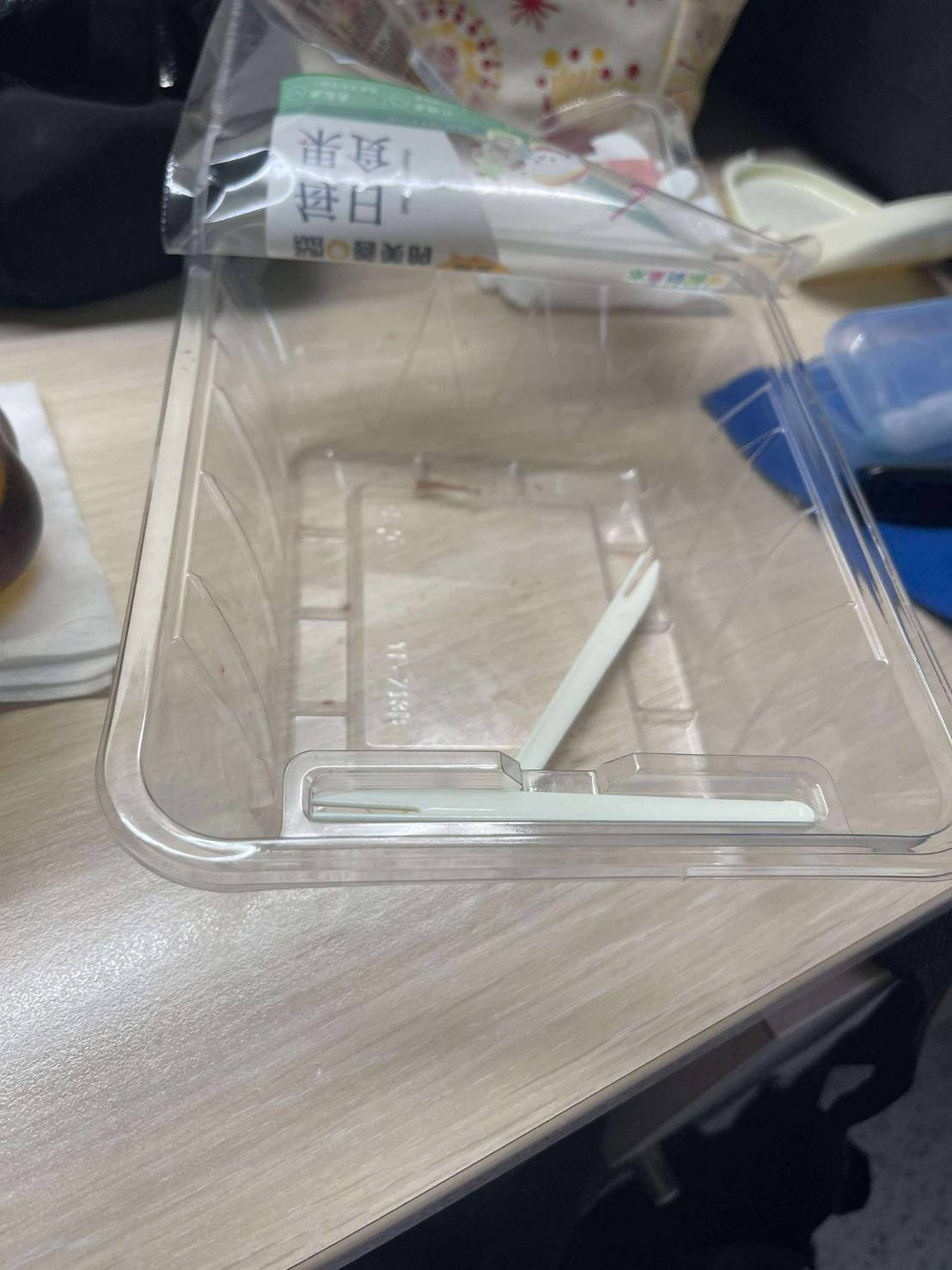plastic: (106, 0, 952, 1055)
